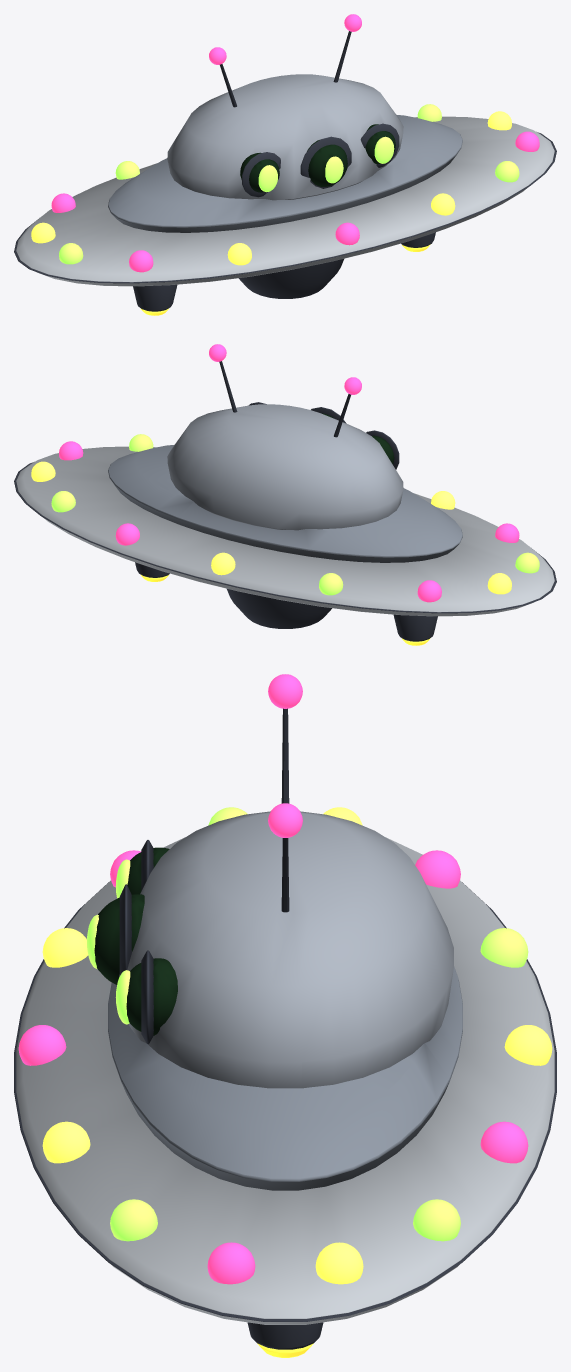
Rendered from alien_boss.glb.
3 renders of one model, top to bottom at view 1: azimuth 30°, elevation 25°; view 2: azimuth 150°, elevation 25°; view 3: azimuth 270°, elevation 25°, orthographic. The views are drawn at different scales.
Visible parts, largest first — view 1: hull, bridge, deck, cannon, rim, pod, port.001, port_ring.001, port_ring, port, port_ring.002, bulb.013 (+13 smaller); view 2: hull, bridge, deck, cannon, rim, pod, bulb.008, bulb.007, bulb.009, bulb.006, bulb.010, bulb.005 (+4 smaller); view 3: hull, bridge, deck, rim, port.002, port.001, bulb.003, bulb.004, bulb.002, bulb.005, pod.001, bulb.001 (+10 smaller).
Part boxes in pixels (box(x1,y1,x2,y2)): hull: box(16, 116, 554, 286); bridge: box(167, 74, 403, 200); deck: box(108, 114, 462, 232); cannon: box(239, 259, 343, 298); rim: box(14, 132, 556, 283); pod: box(133, 284, 177, 311); port.001: box(307, 140, 347, 186); port_ring.001: box(300, 136, 351, 188); port_ring: box(242, 152, 280, 197); port: box(240, 152, 279, 192); port_ring.002: box(360, 123, 399, 167); bulb.013: box(227, 243, 251, 265); hull: box(16, 446, 554, 616); bridge: box(167, 404, 403, 530); deck: box(108, 444, 462, 562); cannon: box(227, 589, 331, 628); rim: box(14, 462, 556, 613); pod: box(393, 614, 437, 641); bulb.008: box(319, 573, 343, 595); bulb.007: box(211, 552, 235, 575); bulb.009: box(417, 580, 441, 602); bulb.006: box(115, 523, 139, 545); bulb.010: box(487, 573, 511, 594); bulb.005: box(51, 491, 75, 512); hull: box(16, 837, 554, 1324); bridge: box(119, 811, 453, 1088); deck: box(108, 966, 462, 1190); rim: box(14, 882, 556, 1321); port.002: box(126, 958, 177, 1035); port.001: box(94, 894, 144, 984); bulb.003: box(207, 1242, 255, 1284); bulb.004: box(315, 1242, 363, 1284); bulb.002: box(110, 1199, 157, 1241); bulb.005: box(413, 1199, 460, 1241); pod.001: box(247, 1322, 323, 1349); bulb.001: box(42, 1121, 90, 1163).
Size of the model in its own units: 5.41 by 2.53 by 2.49.
